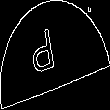P_S: (40, 26, 70, 84)
